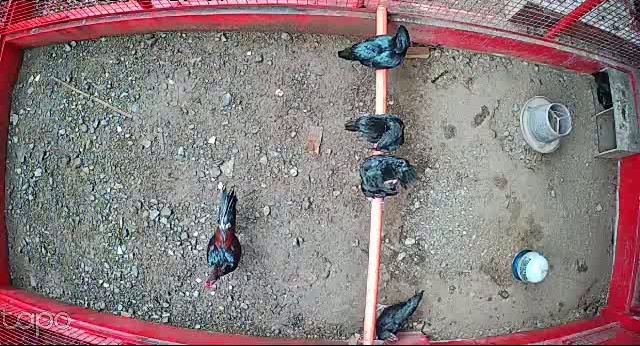Chicken: (337, 22, 412, 72), (355, 152, 417, 202), (374, 285, 423, 342), (340, 115, 407, 154)
Drinker: (510, 248, 551, 283)
Feeder: (518, 94, 574, 155)
Rooster: (203, 187, 242, 289)
